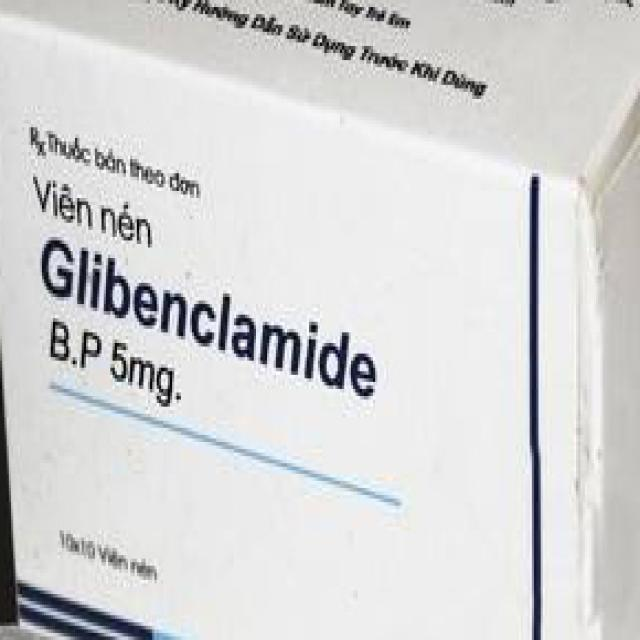drug-name: (33, 227, 385, 414)
